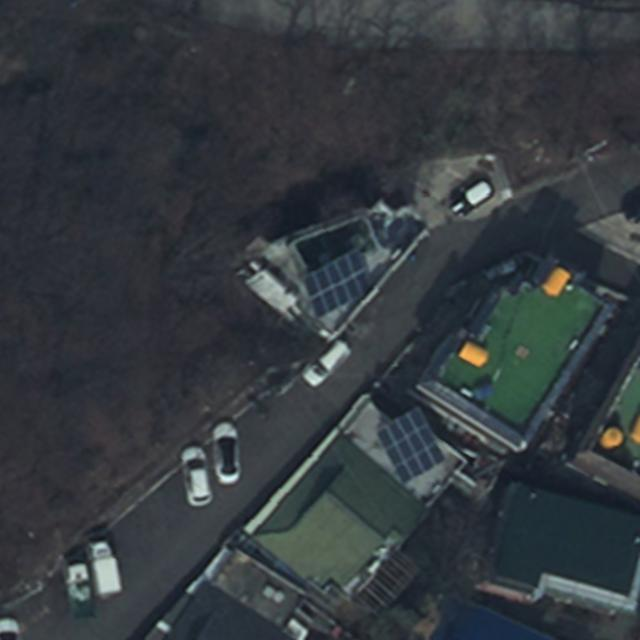panel: (372, 404, 447, 486), (300, 246, 372, 318)
